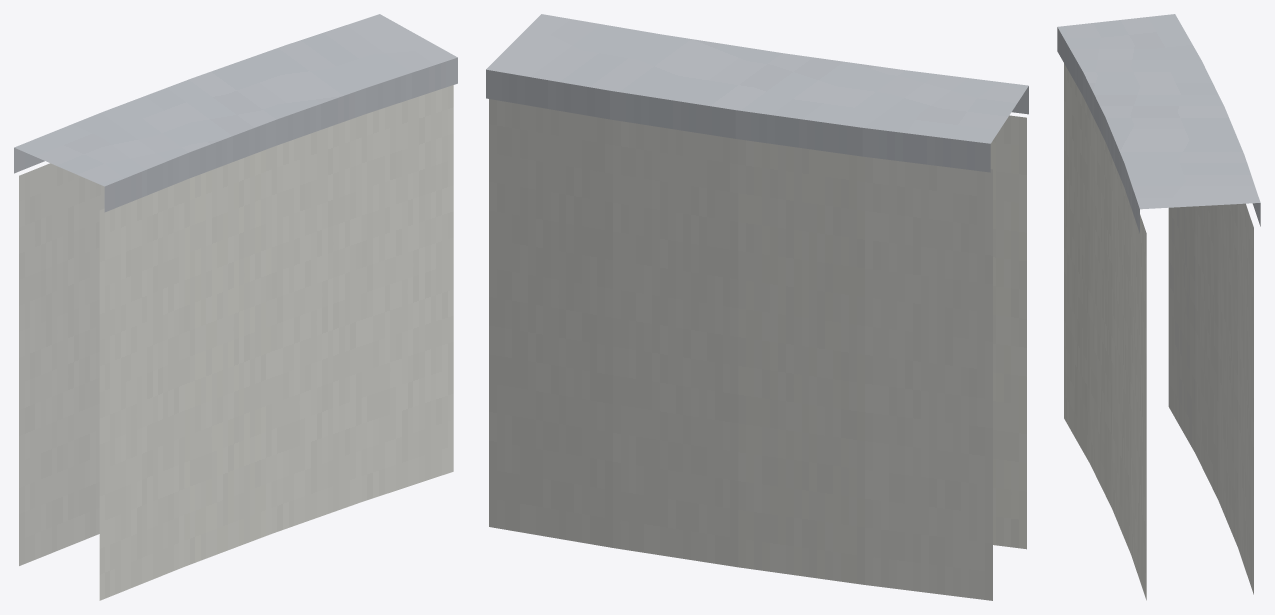
Rendered from curve_board_13.obj.
3 views of the same model, side by side, from view 1: azimuth 30°, elevation 25°; view 2: azimuth 150°, elevation 25°; view 3: azimuth 270°, elevation 25° (orthographic). The views are drawn at different scales.
Parts seen in each view (by area): view 1: curve_board_13; view 2: curve_board_13; view 3: curve_board_13.
Boxes of the visible parts, <box> form: curve_board_13: <box>14,14,457,600</box>; curve_board_13: <box>486,14,1028,600</box>; curve_board_13: <box>1057,14,1260,600</box>.
Bounding box in the file's own units: 1.07 × 1 × 0.47.
